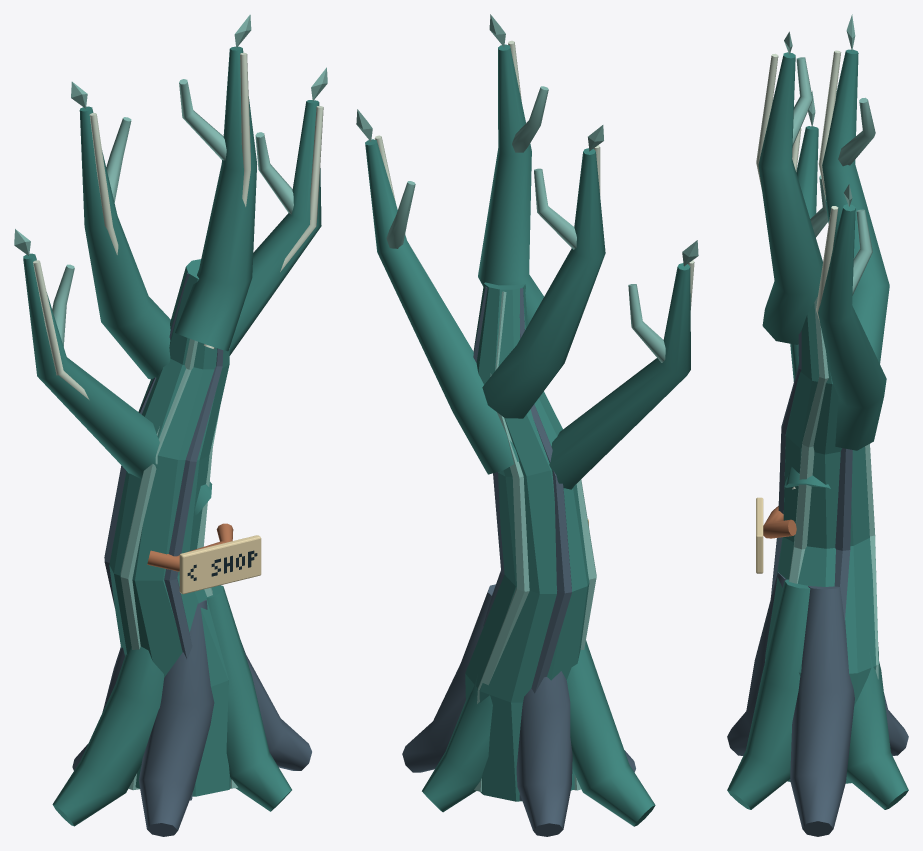
The picture shows the model from 3 angles, left to right: view 1: azimuth 30°, elevation 25°; view 2: azimuth 150°, elevation 25°; view 3: azimuth 270°, elevation 25°; orthographic projection. The views are drawn at different scales.
Visible parts, largest first — view 1: PR041 enamel and hardware; view 2: PR041 enamel and hardware; view 3: PR041 enamel and hardware.
Boxes of the visible parts, x1,y1,x2,y2 form: PR041 enamel and hardware: (14,14,327,836); PR041 enamel and hardware: (356,14,698,836); PR041 enamel and hardware: (727,14,908,836).
Bounding box in the file's own units: 1.29 × 2.9 × 0.6144.
